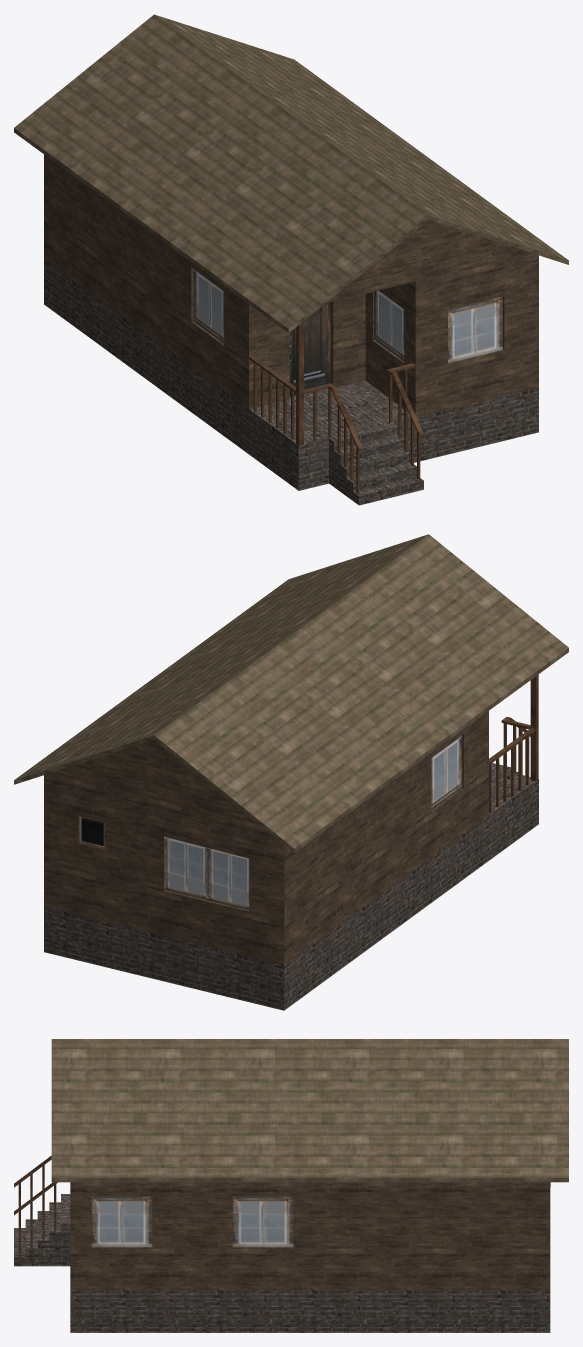
File: house3_tex2.glb
3 renders of one model, top to bottom at view 1: azimuth 30°, elevation 25°; view 2: azimuth 150°, elevation 25°; view 3: azimuth 270°, elevation 25°, orthographic. The views are drawn at different scales.
Visible parts, largest first — view 1: house3, house3_windows_window_bathroom.001, house3_door1; view 2: house3, house3_windows_window_bathroom.001; view 3: house3, house3_windows_window_bathroom.001.
Boxes of the visible parts, x1,y1,x2,y2 form: house3: (14, 14, 568, 505); house3_windows_window_bathroom.001: (191, 267, 504, 363); house3_door1: (290, 302, 330, 396); house3: (14, 534, 568, 1010); house3_windows_window_bathroom.001: (78, 734, 463, 911); house3: (14, 1039, 568, 1332); house3_windows_window_bathroom.001: (91, 1196, 293, 1247).
Bounding box in the file's own units: 6.48 × 5.6 × 11.8.
Materials: 1 (1 with a texture image).
